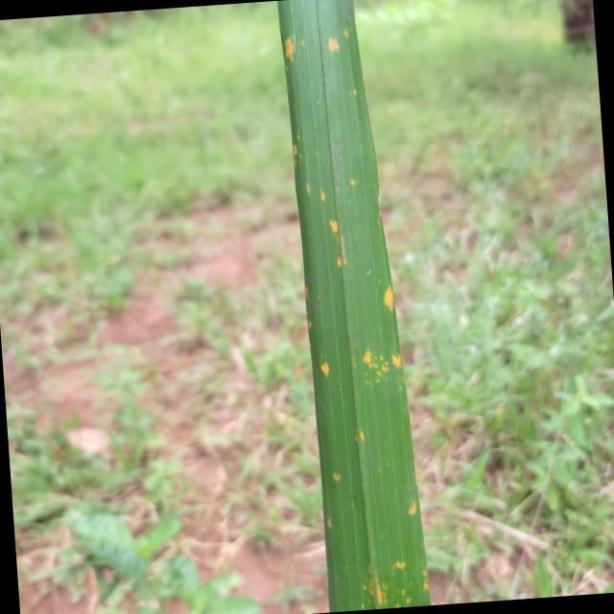Kalium: (278, 0, 432, 601)
